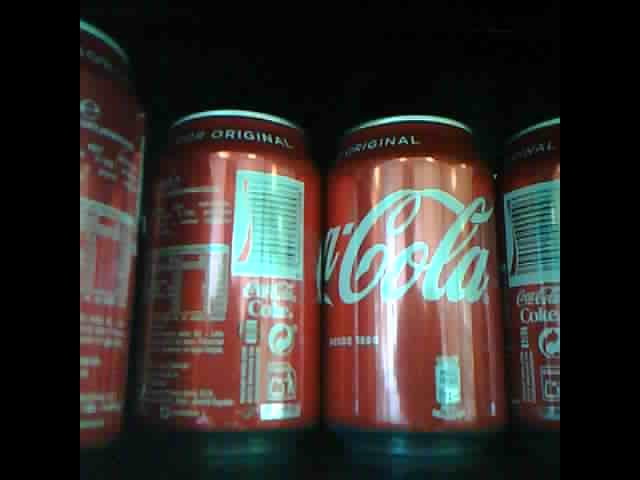coca cola: (323, 113, 506, 443), (143, 105, 319, 432), (81, 22, 145, 451), (487, 112, 560, 434)
